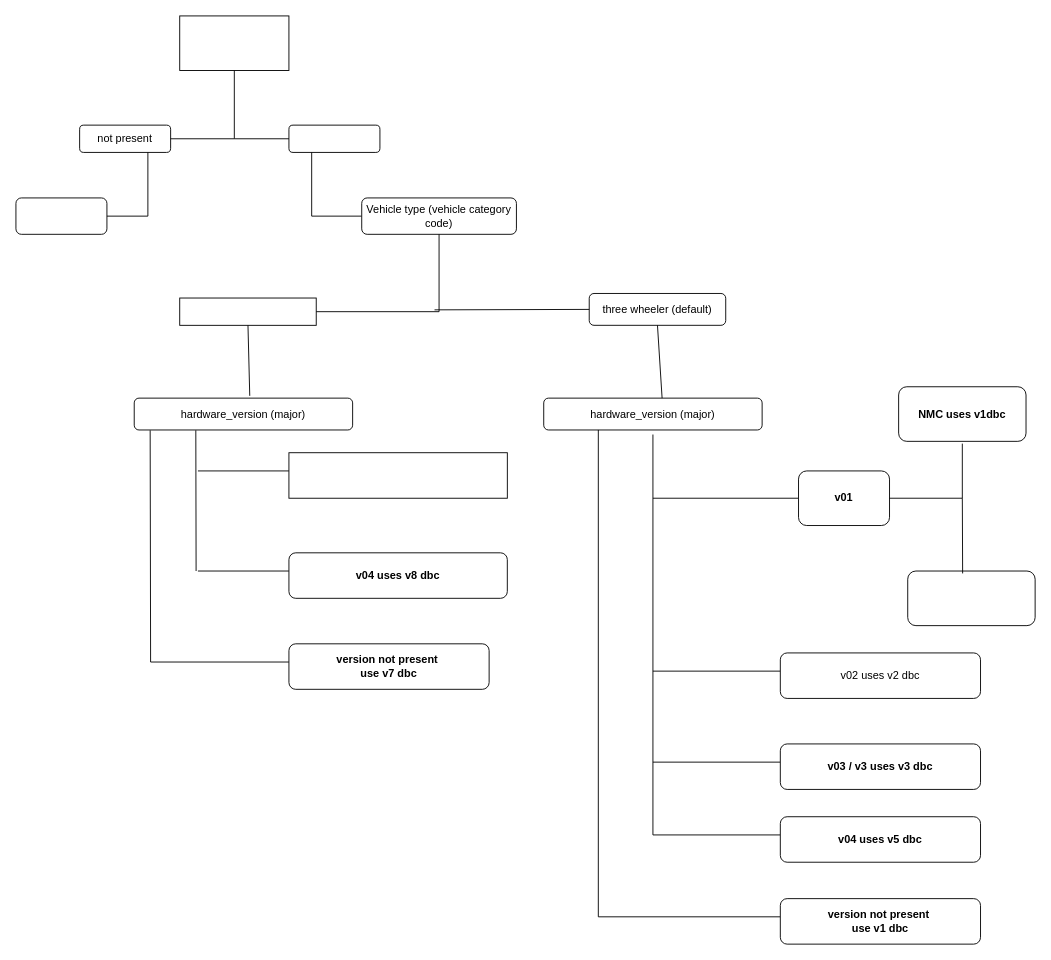
This 1051x960 diagram has some shape labels left out. Here are the shapes that lost their labels. From the top down, the centre of each, then its label:
At (234,43): "manifest".
At (334,138): "present".
At (61,215): "v1 dbc default".
At (247,311): "four wheeler (2)".
At (397,475): "v03 uses v7 dbc".
At (971,598): "LFP uses v4 dbc".
